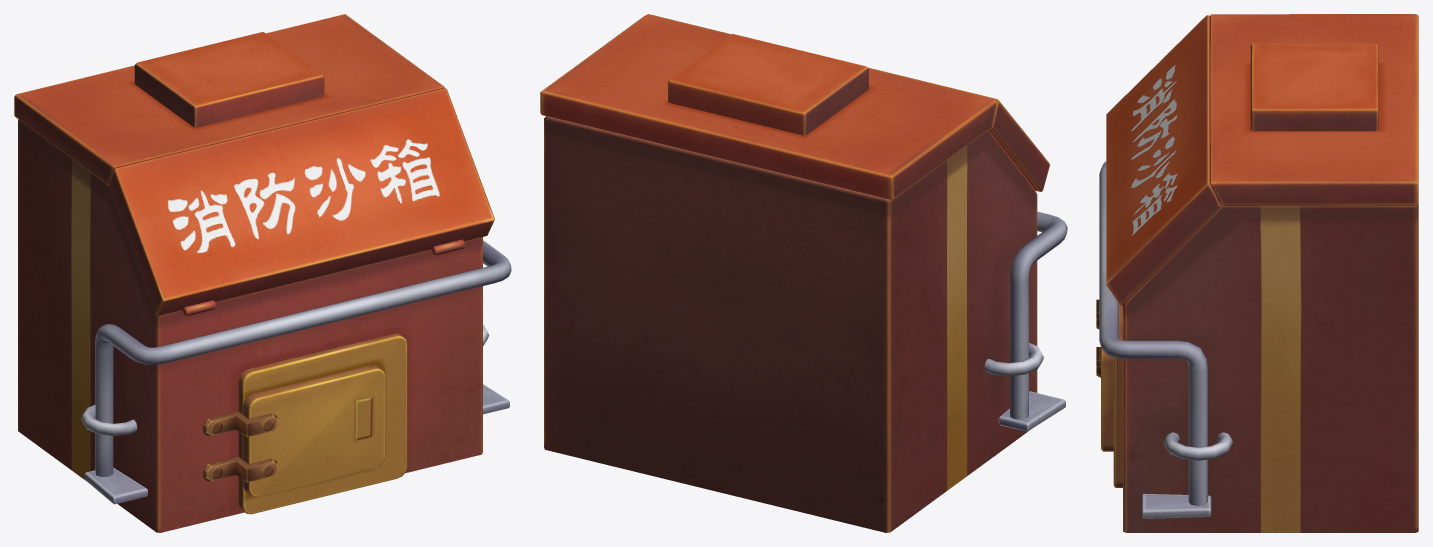
Rendered from shaxiang.fbx.
The picture shows the model from 3 angles, left to right: view 1: azimuth 30°, elevation 25°; view 2: azimuth 150°, elevation 25°; view 3: azimuth 270°, elevation 25°; orthographic projection. The views are drawn at different scales.
Parts seen in each view (by area): view 1: shaxiang; view 2: shaxiang; view 3: shaxiang.
Part boxes in pixels (x1=…): shaxiang: x1=14, y1=14, x2=511, y2=532; shaxiang: x1=540, y1=14, x2=1067, y2=532; shaxiang: x1=1096, y1=14, x2=1418, y2=532.
Bounding box in the file's own units: 51.15 × 43.81 × 34.25.
